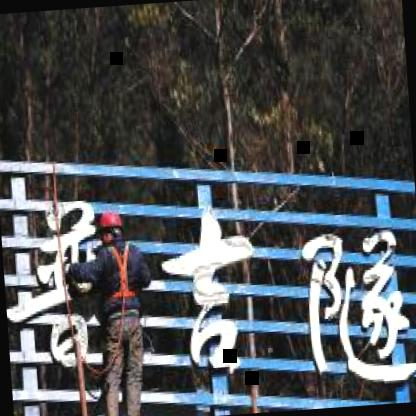helmet: (92, 210, 127, 244)
